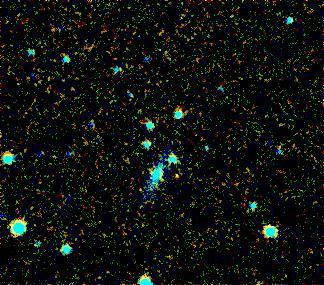star: (161, 160, 191, 190)
